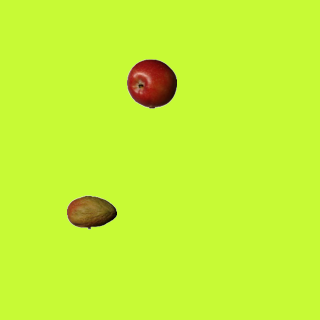Apple Braeburn: (126, 58, 176, 108)
Papaya: (66, 187, 116, 237)
